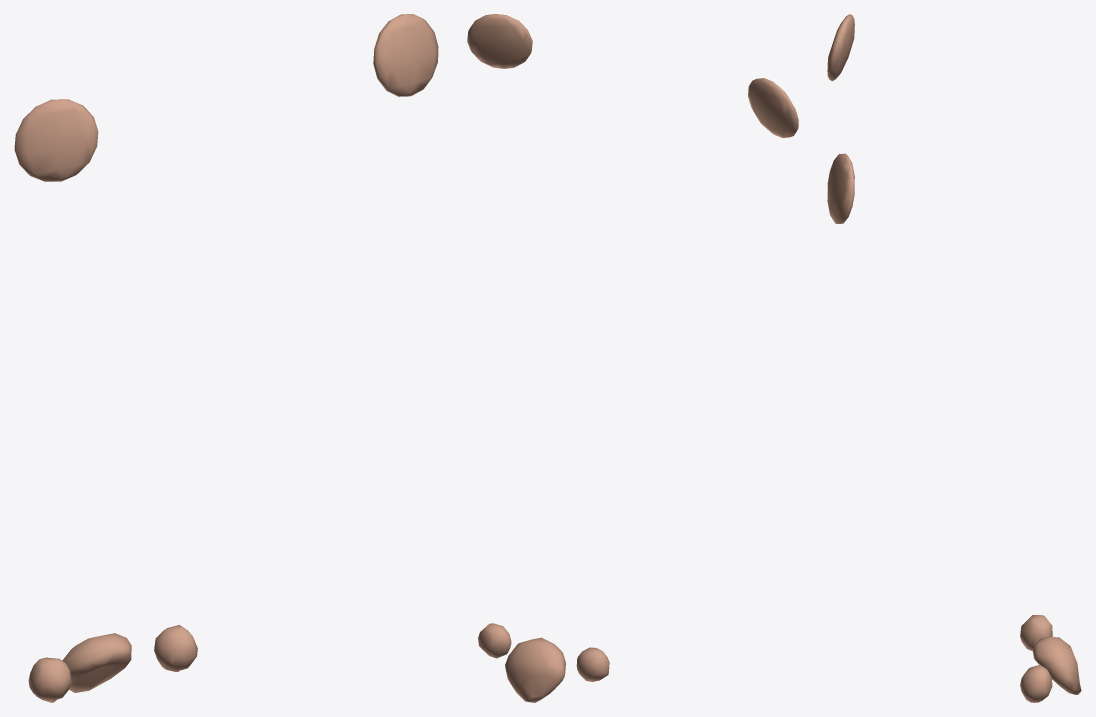
Rendered from pediatric_child_5y_female.reproductive.LOD2.glb.
3 views of the same model, side by side, from view 1: azimuth 30°, elevation 25°; view 2: azimuth 150°, elevation 25°; view 3: azimuth 270°, elevation 25° (orthographic). The views are drawn at different scales.
Parts seen in each view (by area): view 1: PEDIATRIC.CHILD_5Y.FEMALE.REPRODUCTIVE.BREAST_ADIPOSE_TISSUE (×2), PEDIATRIC.CHILD_5Y.FEMALE.REPRODUCTIVE.UTERUS, PEDIATRIC.CHILD_5Y.FEMALE.REPRODUCTIVE.OVARY.L, PEDIATRIC.CHILD_5Y.FEMALE.REPRODUCTIVE.OVARY.R; view 2: PEDIATRIC.CHILD_5Y.FEMALE.REPRODUCTIVE.BREAST_ADIPOSE_TISSUE (×2), PEDIATRIC.CHILD_5Y.FEMALE.REPRODUCTIVE.UTERUS, PEDIATRIC.CHILD_5Y.FEMALE.REPRODUCTIVE.OVARY.R, PEDIATRIC.CHILD_5Y.FEMALE.REPRODUCTIVE.OVARY.L; view 3: PEDIATRIC.CHILD_5Y.FEMALE.REPRODUCTIVE.BREAST_ADIPOSE_TISSUE (×2), PEDIATRIC.CHILD_5Y.FEMALE.REPRODUCTIVE.UTERUS, PEDIATRIC.CHILD_5Y.FEMALE.REPRODUCTIVE.OVARY.L, PEDIATRIC.CHILD_5Y.FEMALE.REPRODUCTIVE.OVARY.R.
Boxes of the visible parts, x1,y1,x2,y2 form: PEDIATRIC.CHILD_5Y.FEMALE.REPRODUCTIVE.BREAST_ADIPOSE_TISSUE (×2): [14, 14, 438, 181]; PEDIATRIC.CHILD_5Y.FEMALE.REPRODUCTIVE.UTERUS: [62, 633, 131, 692]; PEDIATRIC.CHILD_5Y.FEMALE.REPRODUCTIVE.OVARY.L: [154, 625, 197, 671]; PEDIATRIC.CHILD_5Y.FEMALE.REPRODUCTIVE.OVARY.R: [28, 657, 71, 702]; PEDIATRIC.CHILD_5Y.FEMALE.REPRODUCTIVE.BREAST_ADIPOSE_TISSUE (×2): [467, 14, 798, 138]; PEDIATRIC.CHILD_5Y.FEMALE.REPRODUCTIVE.UTERUS: [505, 637, 565, 702]; PEDIATRIC.CHILD_5Y.FEMALE.REPRODUCTIVE.OVARY.R: [576, 647, 609, 681]; PEDIATRIC.CHILD_5Y.FEMALE.REPRODUCTIVE.OVARY.L: [478, 623, 511, 658]; PEDIATRIC.CHILD_5Y.FEMALE.REPRODUCTIVE.BREAST_ADIPOSE_TISSUE (×2): [827, 14, 854, 223]; PEDIATRIC.CHILD_5Y.FEMALE.REPRODUCTIVE.UTERUS: [1032, 636, 1081, 694]; PEDIATRIC.CHILD_5Y.FEMALE.REPRODUCTIVE.OVARY.L: [1020, 665, 1052, 702]; PEDIATRIC.CHILD_5Y.FEMALE.REPRODUCTIVE.OVARY.R: [1020, 615, 1052, 651].
Size of the model in its own units: 0.1448 by 0.2402 by 0.091.
